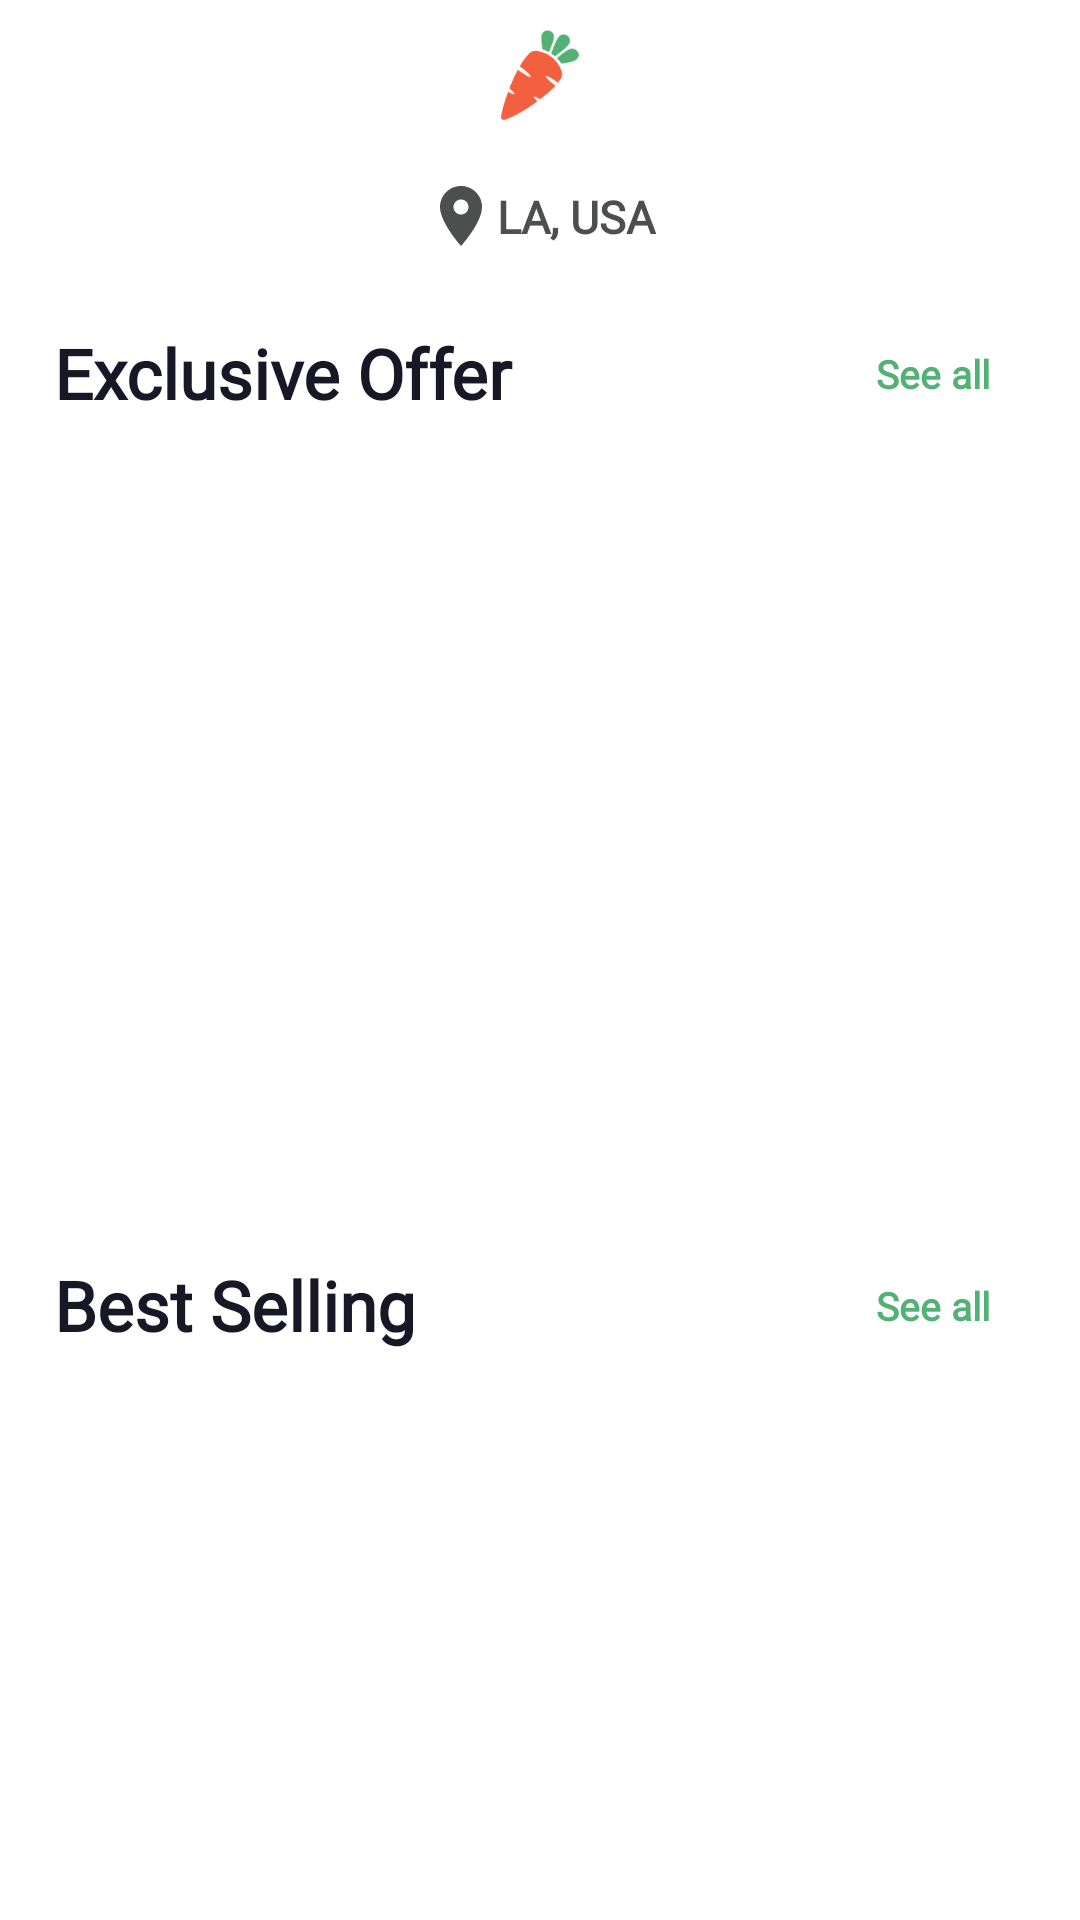

Icons on this 1080x1920 Android screen, each with its box as (x1, y1, x2, y2):
location: (440, 186, 482, 246)
